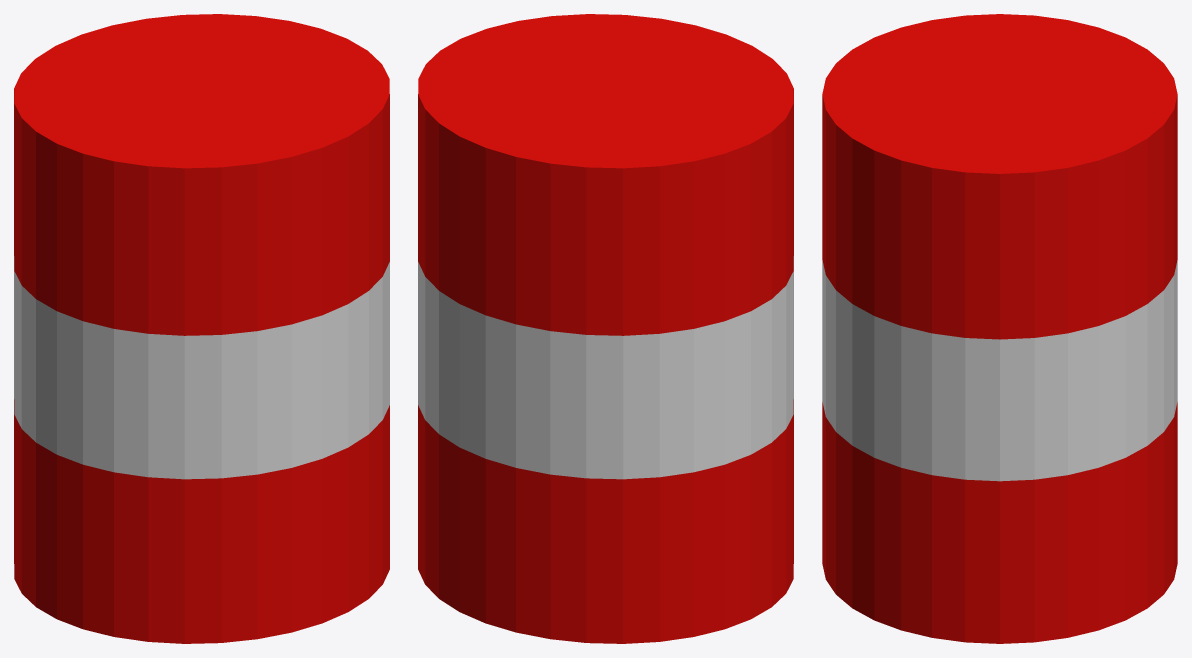
The model's file is barrel.fbx.
3 views of the same model, side by side, from view 1: azimuth 30°, elevation 25°; view 2: azimuth 150°, elevation 25°; view 3: azimuth 270°, elevation 25° (orthographic).
Visible parts, largest first — view 1: Cylinder; view 2: Cylinder; view 3: Cylinder.
Part boxes in pixels (x1=…): Cylinder: x1=14, y1=14, x2=389, y2=643; Cylinder: x1=418, y1=14, x2=793, y2=643; Cylinder: x1=822, y1=14, x2=1177, y2=643.
Size of the model in its own units: 139 by 190 by 130.
